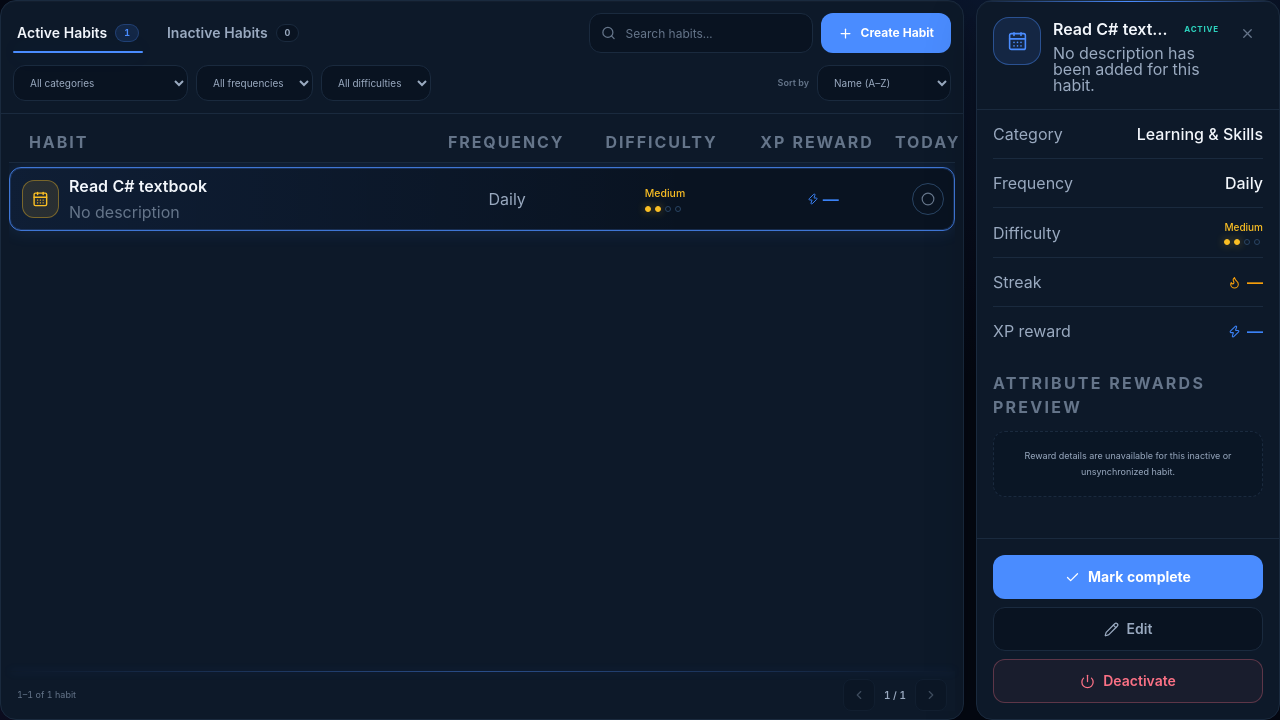
Test: HabitSection › moves a deactivated habit out of the active view without reloading
The image size is (1280, 720).
Expected: the 2nd heading "Read C# textbook" is shown, top-left (69, 174), bottom-right (207, 198)
Click the button "Deactivate" at (1128, 681), box top-left (993, 659), bottom-right (1263, 703)
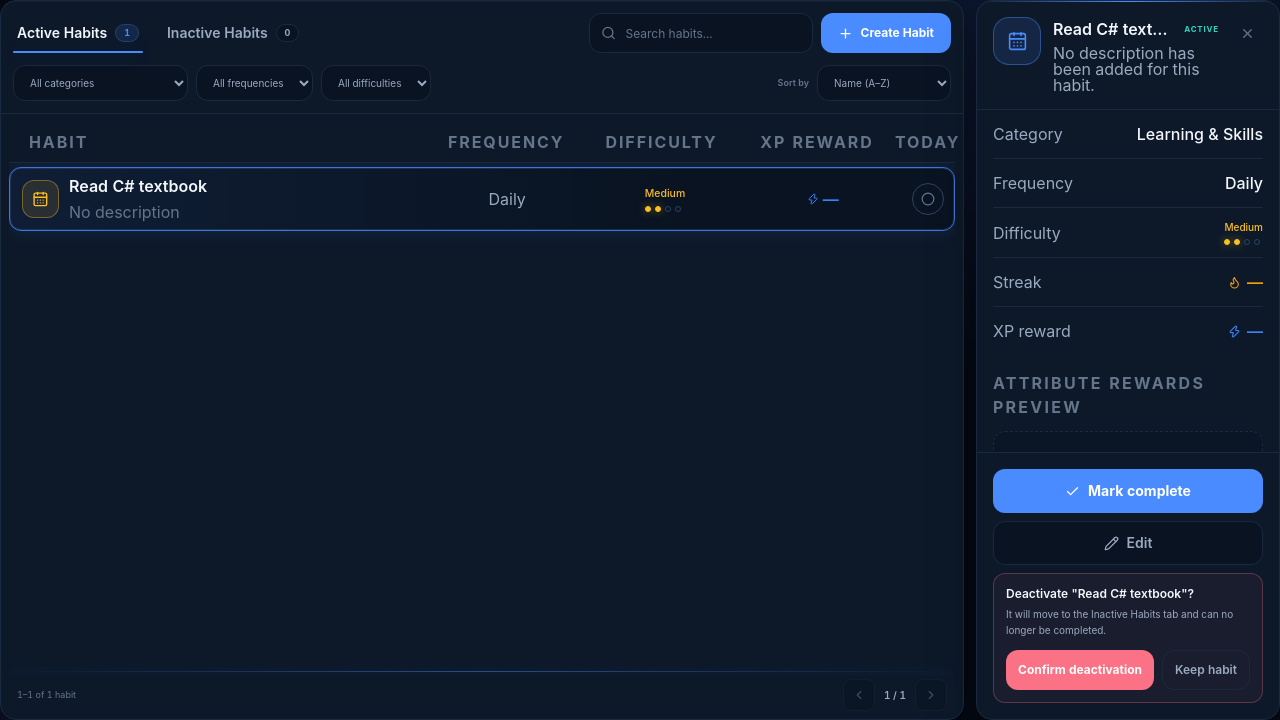
Click the button "Confirm deactivation" at (1080, 670), box top-left (1006, 650), bottom-right (1154, 690)
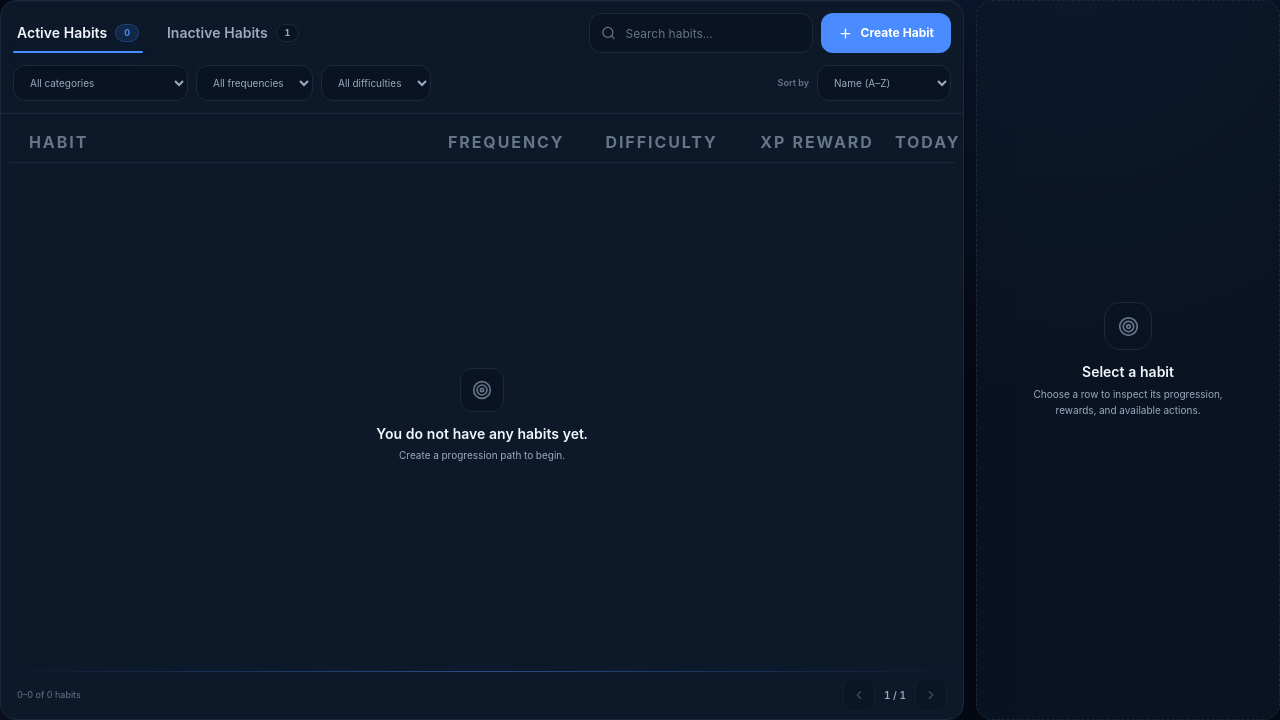
Expected: the text "You do not have any habits yet." is shown, top-left (376, 424), bottom-right (588, 444)
Expected: the button "Read C# textbook" is gone
